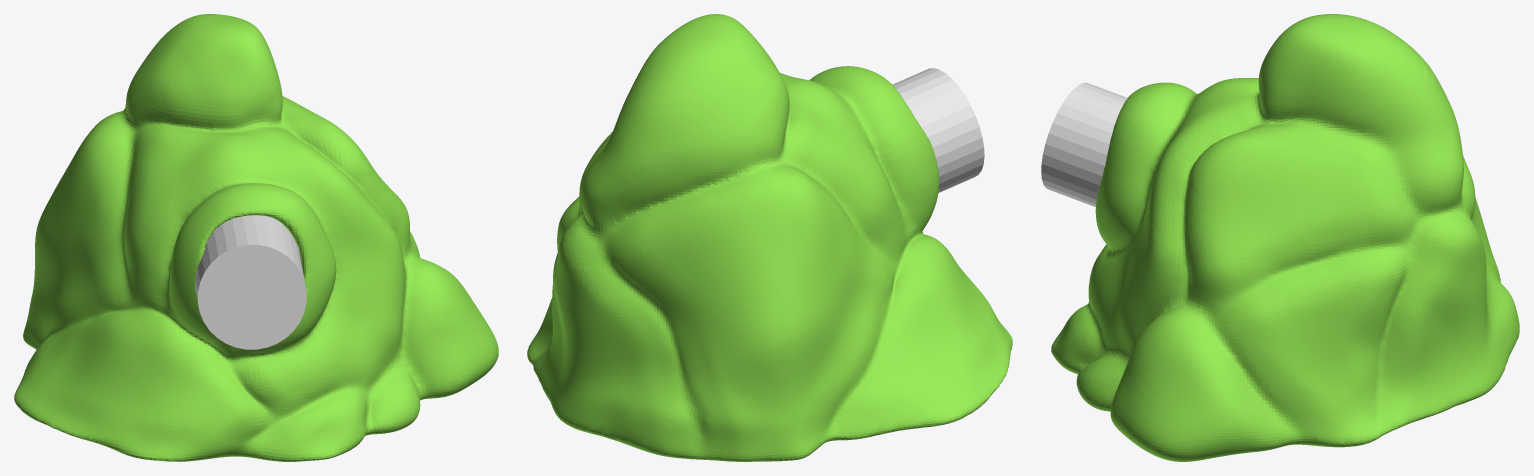
File: rock moment.fbx
3 views of the same model, side by side, from view 1: azimuth 30°, elevation 25°; view 2: azimuth 150°, elevation 25°; view 3: azimuth 270°, elevation 25° (orthographic). The views are drawn at different scales.
Parts seen in each view (by area): view 1: Icosphere, Cylinder; view 2: Icosphere, Cylinder; view 3: Icosphere, Cylinder.
Boxes of the visible parts, x1=… form: Icosphere: x1=14, y1=14, x2=498, y2=461; Cylinder: x1=195, y1=215, x2=306, y2=349; Icosphere: x1=527, y1=14, x2=1012, y2=461; Cylinder: x1=892, y1=68, x2=984, y2=192; Icosphere: x1=1051, y1=14, x2=1519, y2=461; Cylinder: x1=1041, y1=82, x2=1127, y2=207.
Bounding box in the file's own units: 264 × 202 × 249.
